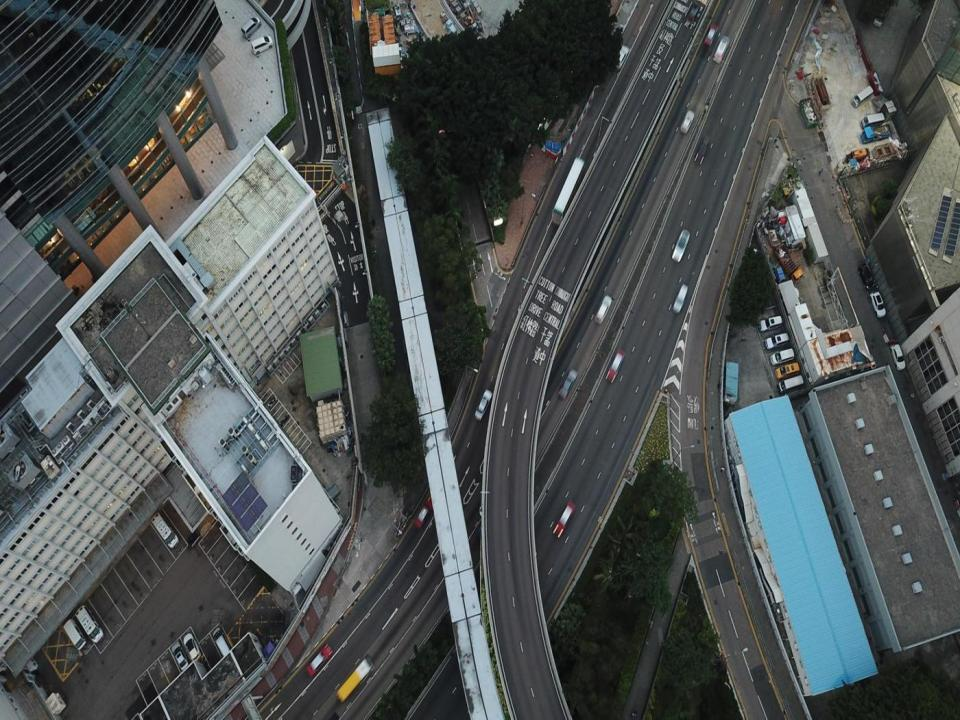bus: (554, 155, 585, 222), (337, 656, 373, 701)
car: (553, 501, 575, 538), (306, 643, 330, 675), (413, 494, 432, 528), (855, 260, 876, 290), (474, 389, 492, 423), (672, 228, 689, 263), (606, 349, 623, 383), (182, 632, 201, 662), (170, 640, 188, 670), (558, 369, 577, 397), (596, 295, 613, 324), (870, 291, 888, 317), (713, 35, 728, 63), (891, 342, 905, 370), (613, 46, 629, 68), (681, 112, 694, 134), (705, 25, 718, 46)
van: (73, 604, 102, 643), (151, 513, 178, 547), (210, 627, 232, 658), (63, 620, 85, 650), (769, 346, 795, 366), (851, 84, 873, 107), (765, 332, 788, 352), (860, 111, 884, 130), (778, 375, 804, 392), (673, 284, 688, 313), (774, 362, 800, 378), (241, 18, 261, 38), (251, 36, 272, 54), (759, 314, 782, 330)
